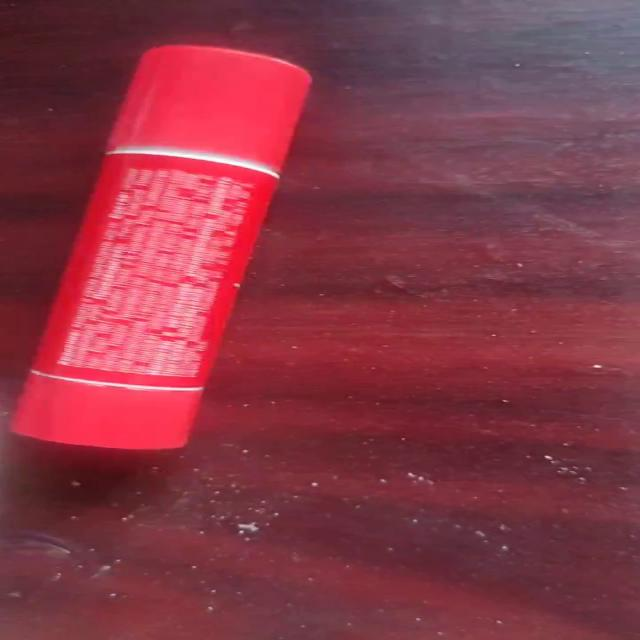glue: (8, 43, 312, 453)
